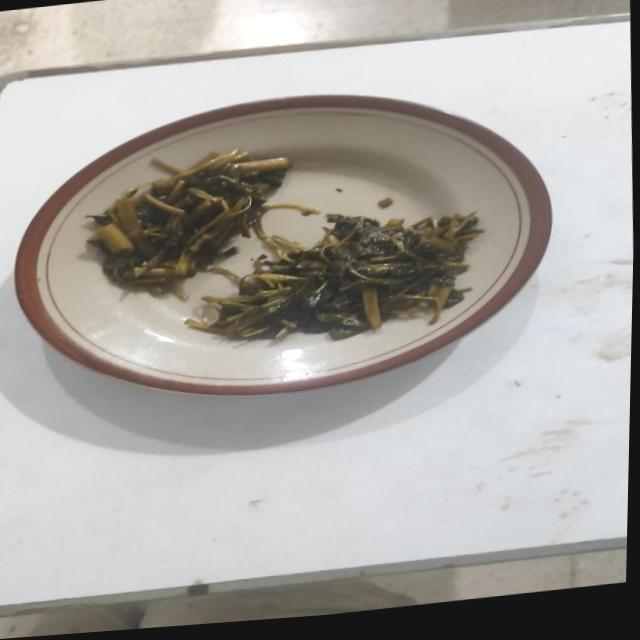tumis_kangkung: (185, 212, 482, 339), (88, 150, 322, 288)
